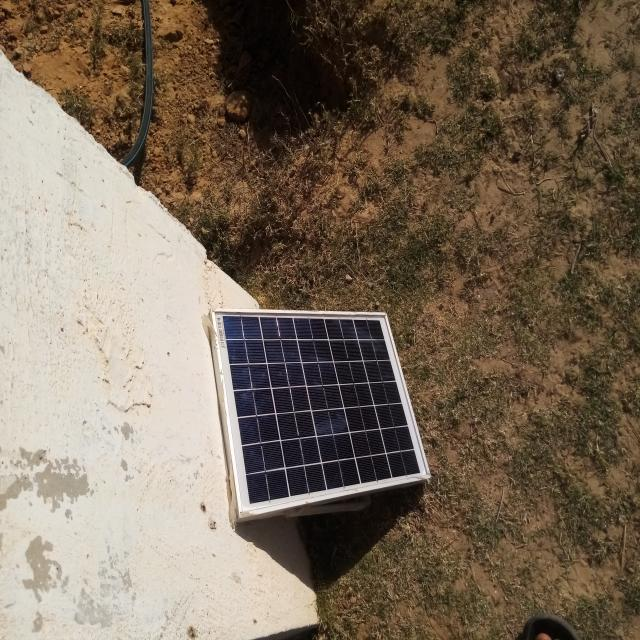no faulty: (211, 308, 430, 516)
